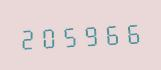five: (60, 21, 80, 50)
nine: (81, 19, 101, 48)
six: (102, 18, 122, 47), (123, 17, 143, 46)
two: (17, 23, 37, 52)
zero: (38, 22, 58, 51)
